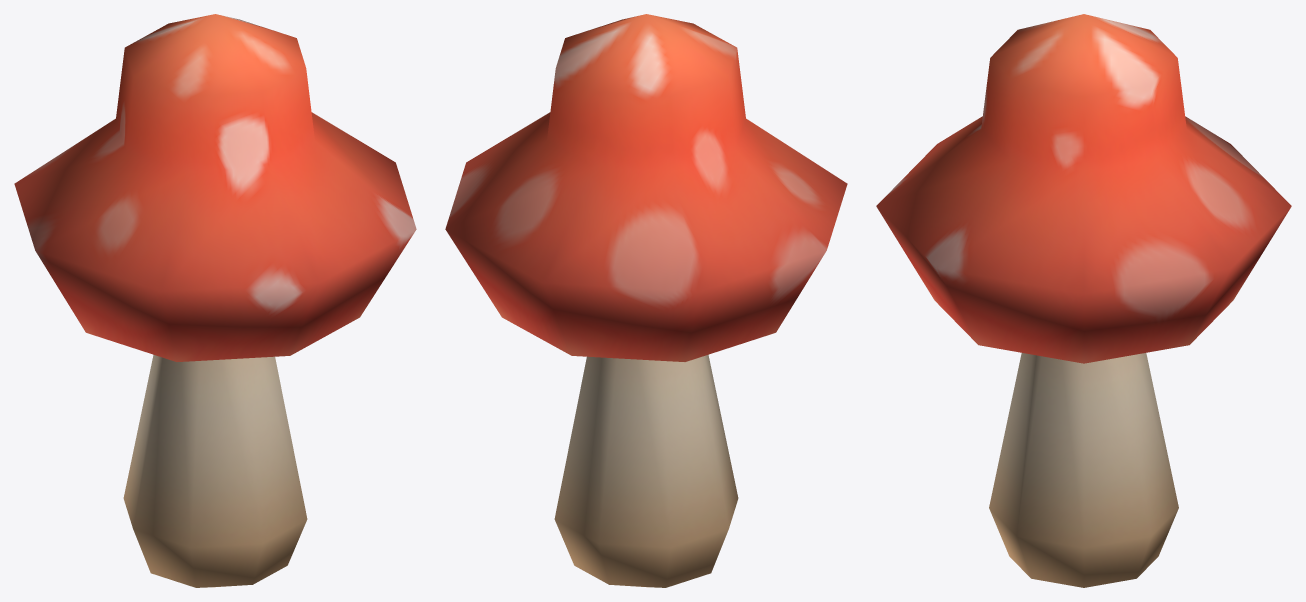
The model's file is MushroomRed02.FBX.
3 renders of one model, left to right at view 1: azimuth 30°, elevation 25°; view 2: azimuth 150°, elevation 25°; view 3: azimuth 270°, elevation 25°, orthographic.
Parts seen in each view (by area): view 1: MushroomRed02; view 2: MushroomRed02; view 3: MushroomRed02.
Part boxes in pixels (box(x1,y1,x2,y2)): MushroomRed02: box(14, 14, 416, 587); MushroomRed02: box(445, 14, 847, 587); MushroomRed02: box(876, 14, 1291, 587).
Size of the model in its own units: 79.94 by 121 by 79.94.
